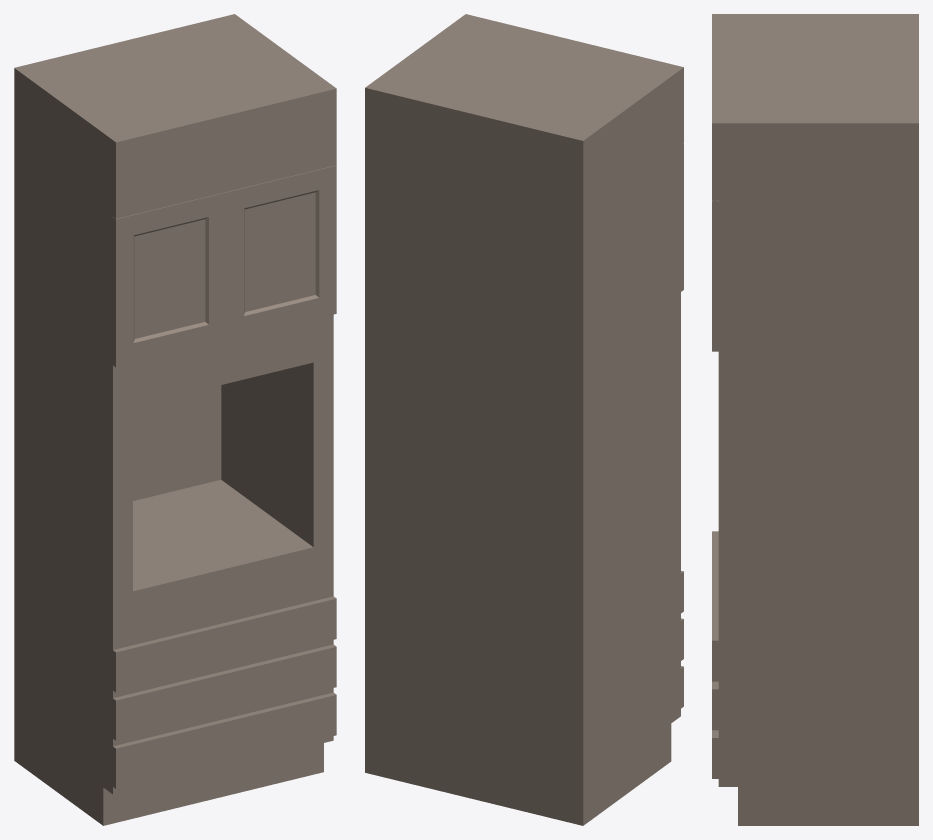
File: Oven-Cabinet-24-Deep_std_001_W30in_2D.glb
The picture shows the model from 3 angles, left to right: view 1: azimuth 30°, elevation 25°; view 2: azimuth 150°, elevation 25°; view 3: azimuth 270°, elevation 25°; orthographic projection. The views are drawn at different scales.
Visible parts, largest first — view 1: Oven-Cabinet-24-Deep.std.001_W30in_2D; view 2: Oven-Cabinet-24-Deep.std.001_W30in_2D; view 3: Oven-Cabinet-24-Deep.std.001_W30in_2D.
Part boxes in pixels (x1,y1,x2,y2): Oven-Cabinet-24-Deep.std.001_W30in_2D: (14, 14, 336, 825); Oven-Cabinet-24-Deep.std.001_W30in_2D: (365, 14, 683, 825); Oven-Cabinet-24-Deep.std.001_W30in_2D: (712, 14, 918, 825).
Size of the model in its own units: 0.762 by 2.29 by 0.6096.
